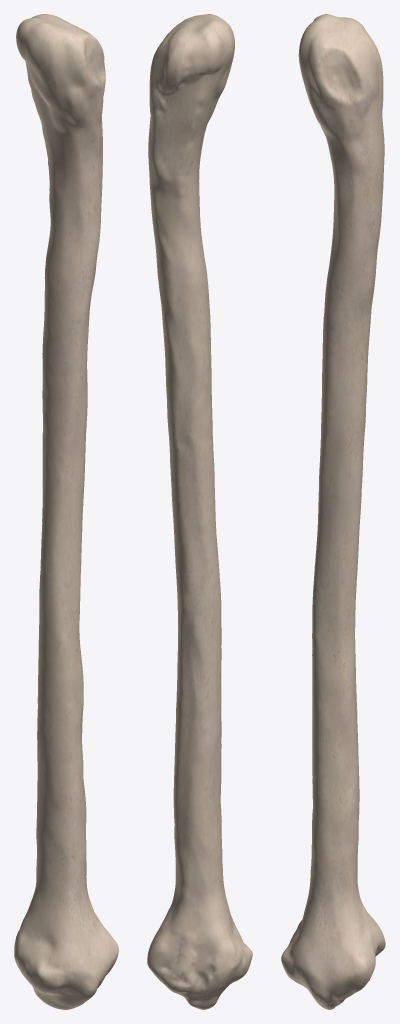
Rendered from bone_fibula_right.gltf.
3 views of the same model, side by side, from view 1: azimuth 30°, elevation 25°; view 2: azimuth 150°, elevation 25°; view 3: azimuth 330°, elevation 25° (orthographic).
Parts seen in each view (by area): view 1: Unterschenkel_Fibula_L002_163; view 2: Unterschenkel_Fibula_L002_163; view 3: Unterschenkel_Fibula_L002_163.
Boxes of the visible parts, box(x1,y1,x2,y2) form: Unterschenkel_Fibula_L002_163: box(14, 14, 118, 1009); Unterschenkel_Fibula_L002_163: box(147, 14, 252, 1009); Unterschenkel_Fibula_L002_163: box(281, 14, 385, 1009).
Bounding box in the file's own units: 0.1427 × 1.55 × 0.1492.
1 material, 1 textured.
